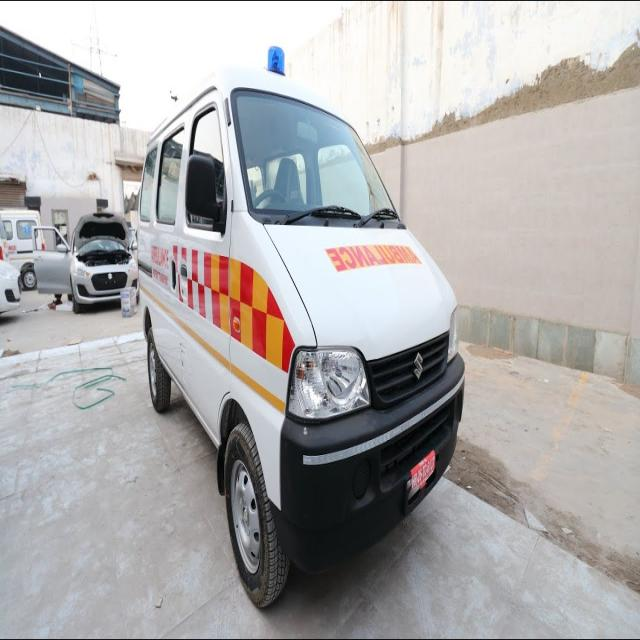ambulance: (122, 87, 467, 640)
